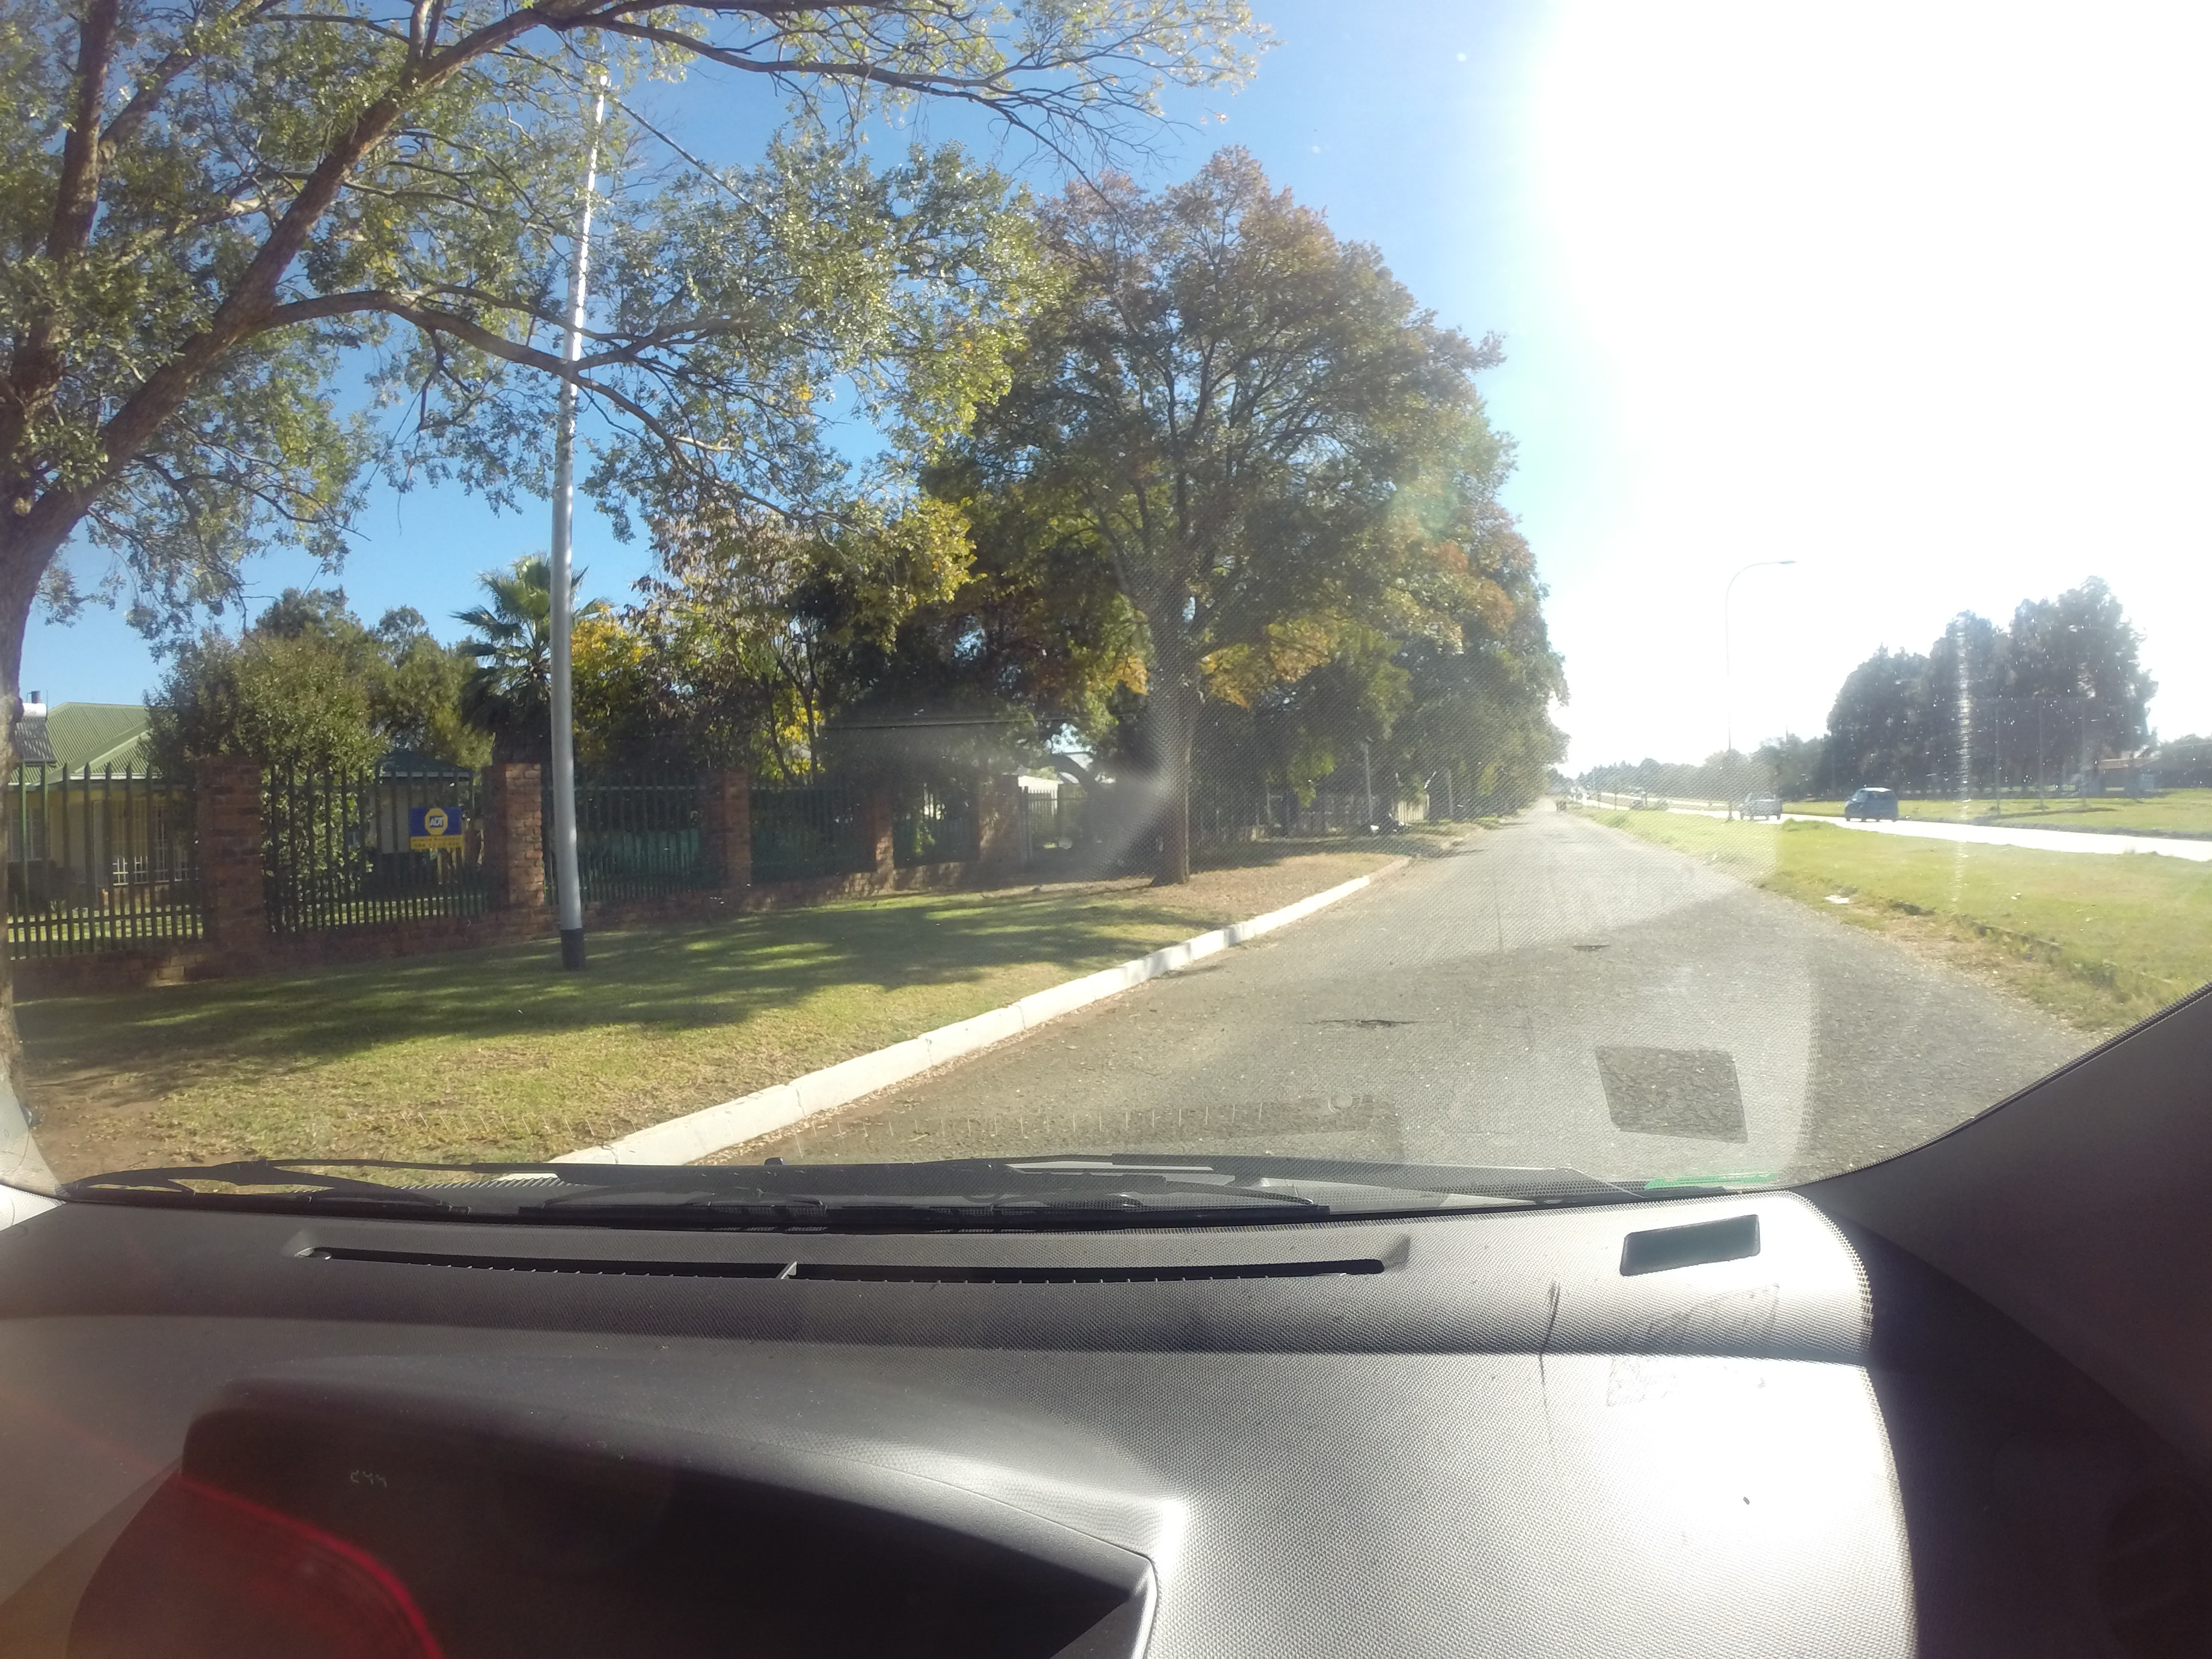pothole: (1287, 988, 1423, 1086)
